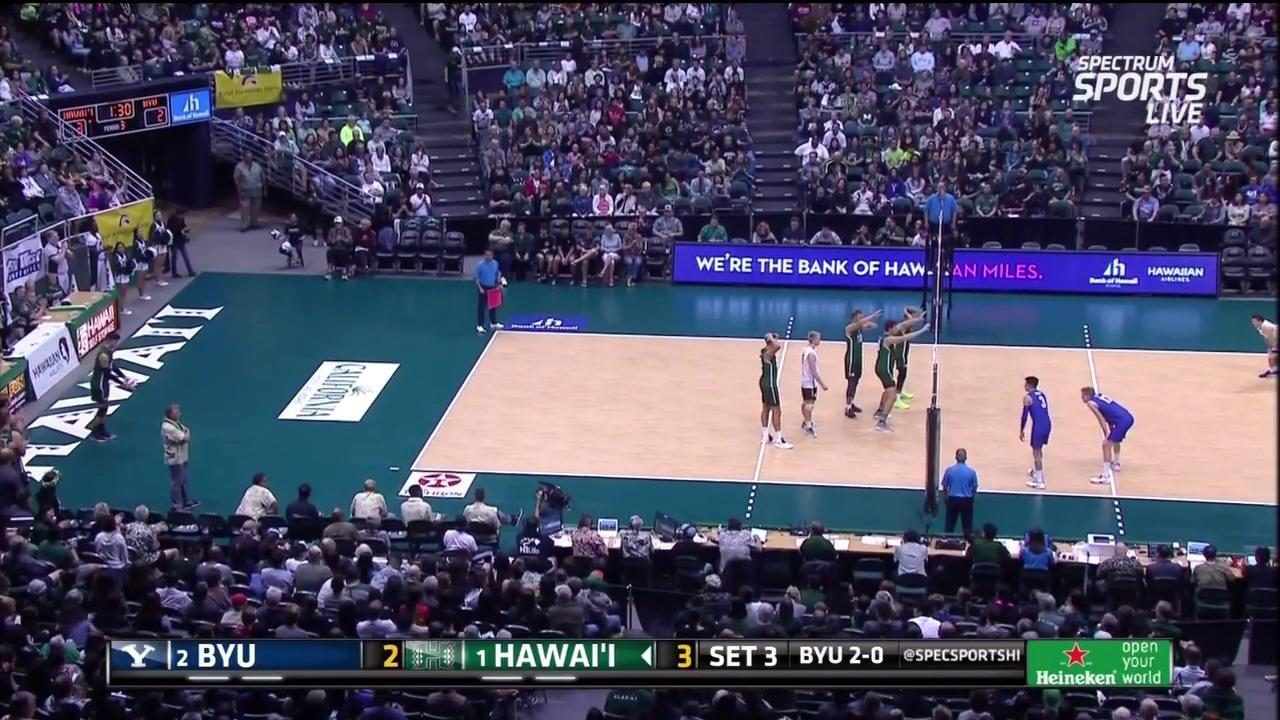player: (86, 330, 131, 440), (1085, 387, 1132, 486), (755, 332, 791, 451), (794, 332, 831, 442), (1018, 374, 1054, 487), (874, 320, 905, 436), (841, 309, 872, 421), (896, 299, 927, 411), (472, 245, 507, 334), (1251, 312, 1277, 382)
refree: (943, 449, 979, 536), (923, 179, 958, 261)
